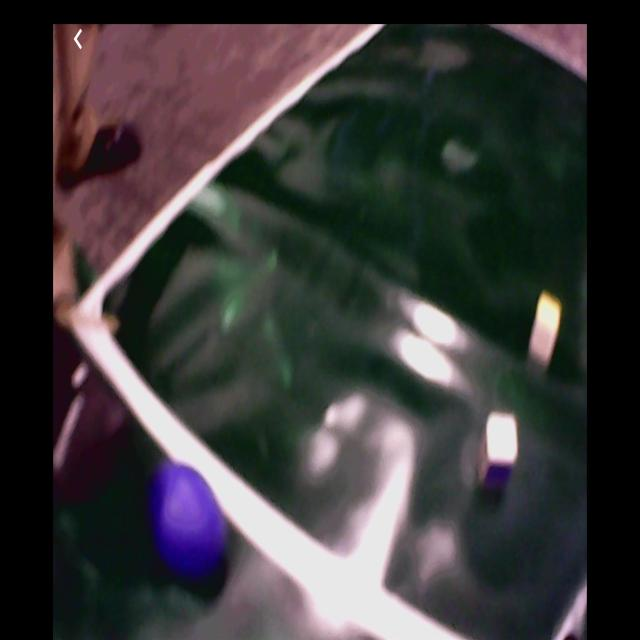ball: (154, 464, 222, 571)
